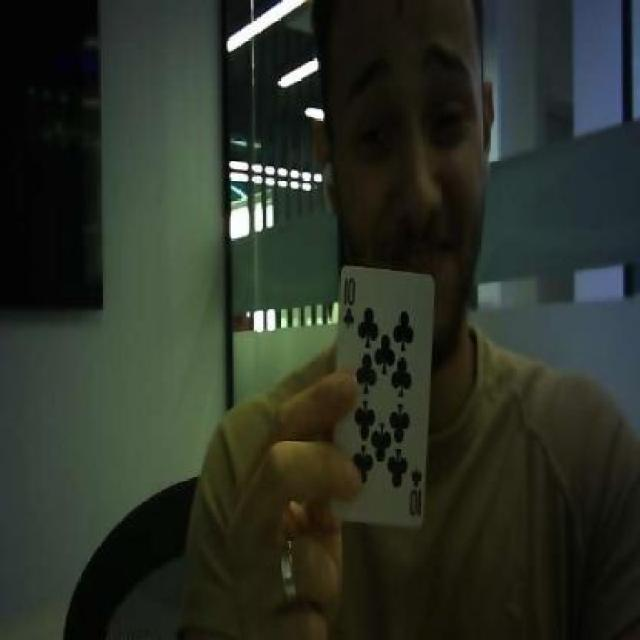10C: (342, 273, 356, 329), (407, 467, 421, 518)
